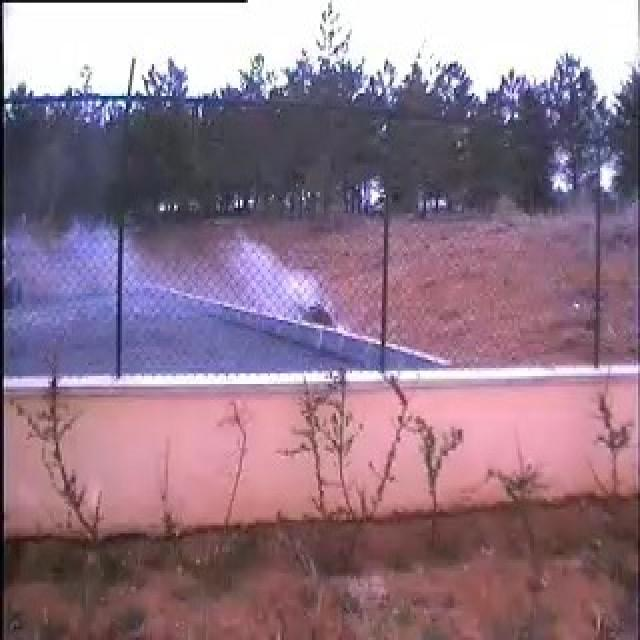smoke: (58, 199, 364, 368)
